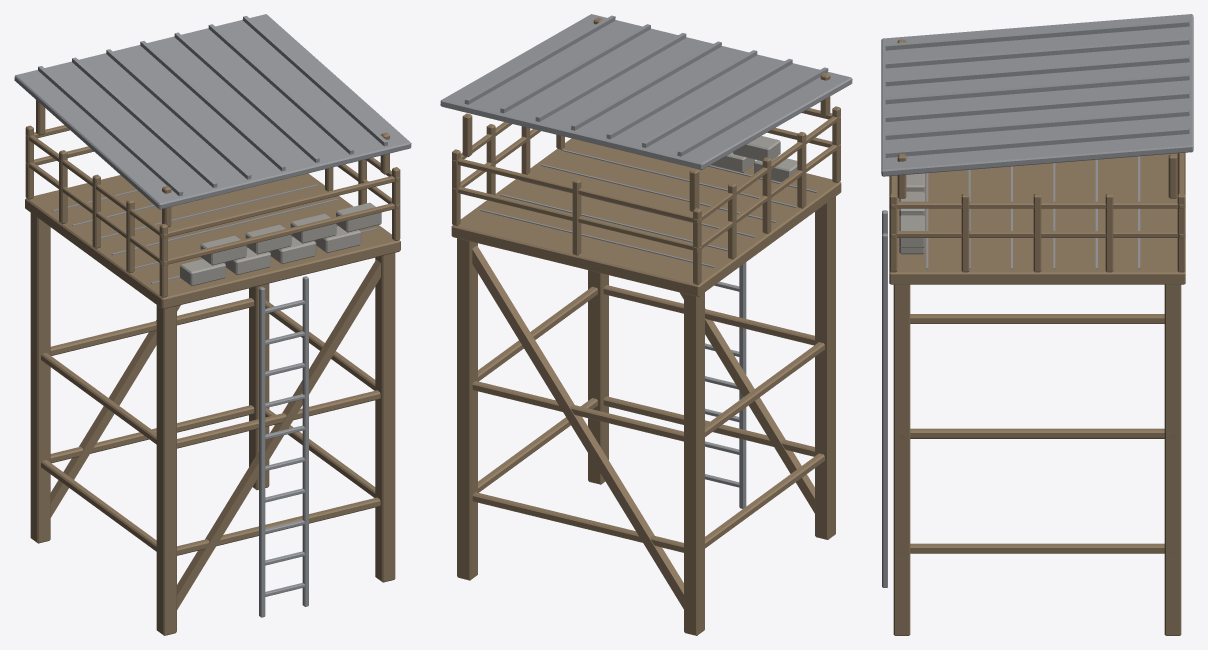
Rendered from tower.glb.
The picture shows the model from 3 angles, left to right: view 1: azimuth 30°, elevation 25°; view 2: azimuth 150°, elevation 25°; view 3: azimuth 270°, elevation 25°; orthographic projection. The views are drawn at different scales.
Visible parts, largest first — view 1: tower; view 2: tower; view 3: tower.
Part boxes in pixels (x1=…): tower: x1=14, y1=14, x2=411, y2=635; tower: x1=440, y1=14, x2=852, y2=635; tower: x1=881, y1=14, x2=1193, y2=635.
Bounding box in the file's own units: 3.7 × 6.52 × 3.69.
